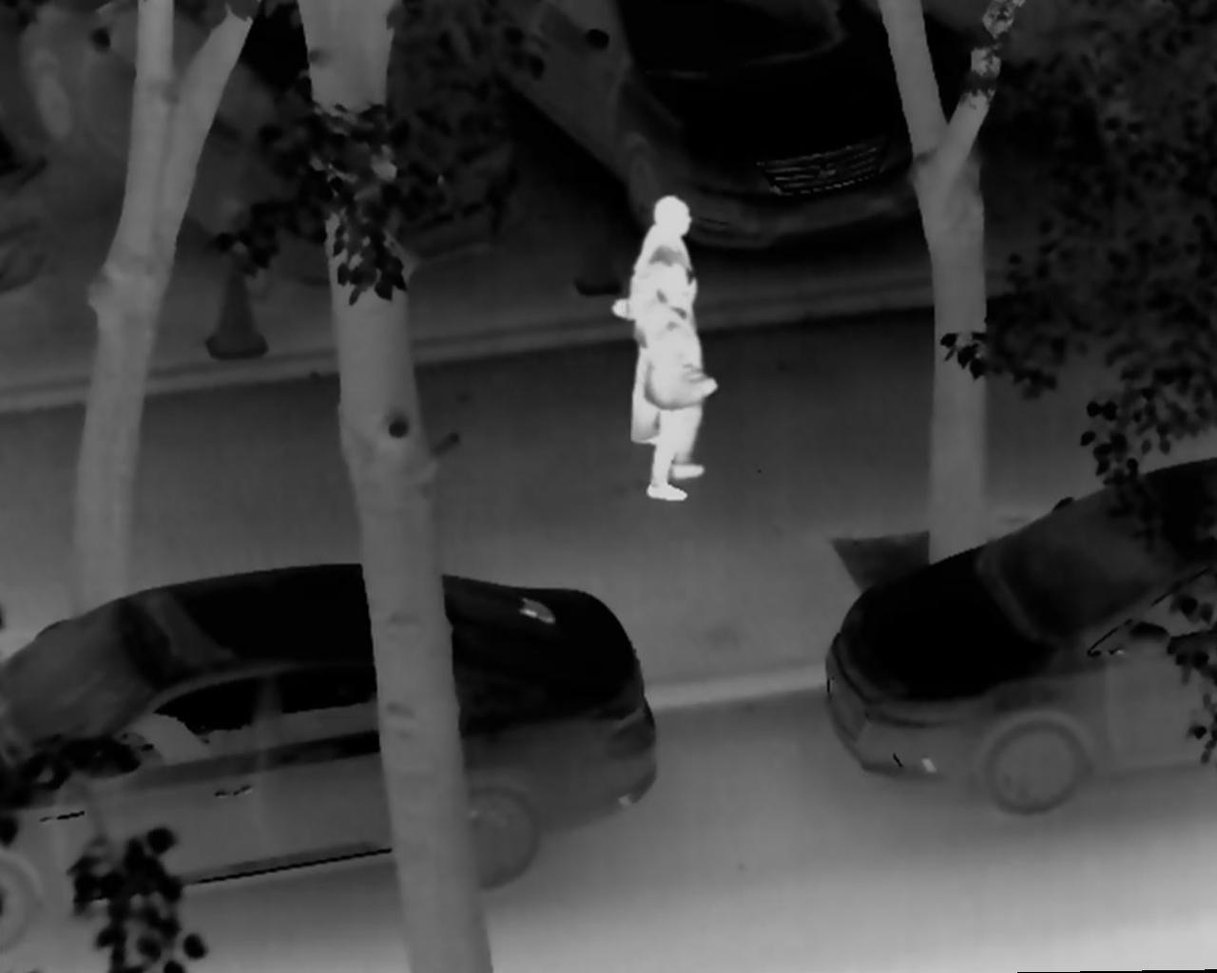person: (611, 189, 712, 448), (640, 258, 719, 506)
